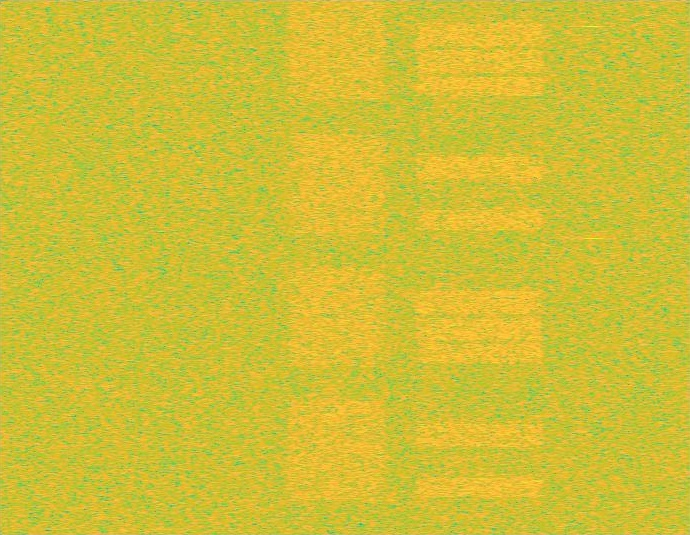5G: (285, 0, 389, 534)
LTE: (411, 0, 549, 534)
Radar: (586, 0, 600, 534)
